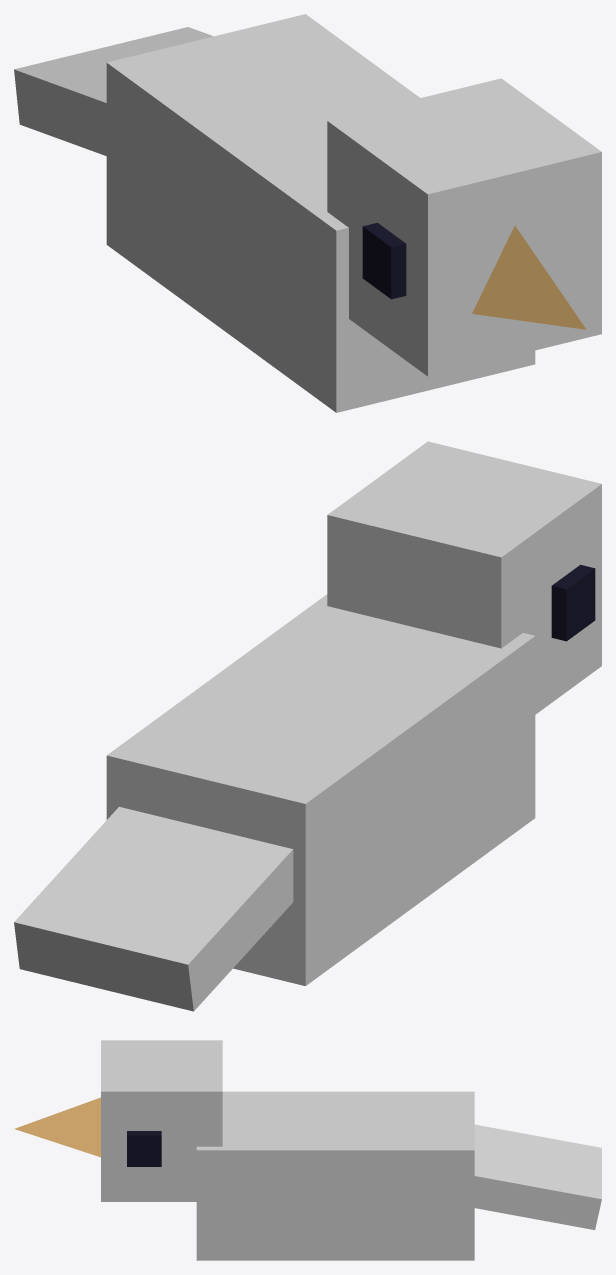
File: bird.glb
The picture shows the model from 3 angles, top to bottom: view 1: azimuth 30°, elevation 25°; view 2: azimuth 150°, elevation 25°; view 3: azimuth 270°, elevation 25°; orthographic projection. The views are drawn at different scales.
Parts seen in each view (by area): view 1: body, head, tail, beak, detail_eye-1; view 2: body, head, tail, detail_eye-1; view 3: body, head, tail, beak, detail_eye1.
Part boxes in pixels (x1,y1,x2,y2): body: (106, 14, 535, 412); head: (327, 78, 601, 376); tail: (14, 27, 213, 155); beak: (472, 225, 586, 329); detail_eye-1: (362, 222, 406, 299); body: (106, 594, 535, 985); head: (327, 441, 601, 714); tail: (14, 806, 293, 1011); detail_eye-1: (551, 564, 595, 641); body: (196, 1091, 474, 1260); head: (101, 1040, 222, 1201); tail: (474, 1124, 601, 1229); beak: (14, 1097, 100, 1157); detail_eye1: (127, 1131, 161, 1166).
Size of the model in its own units: 0.082 by 0.105 by 0.3382.
